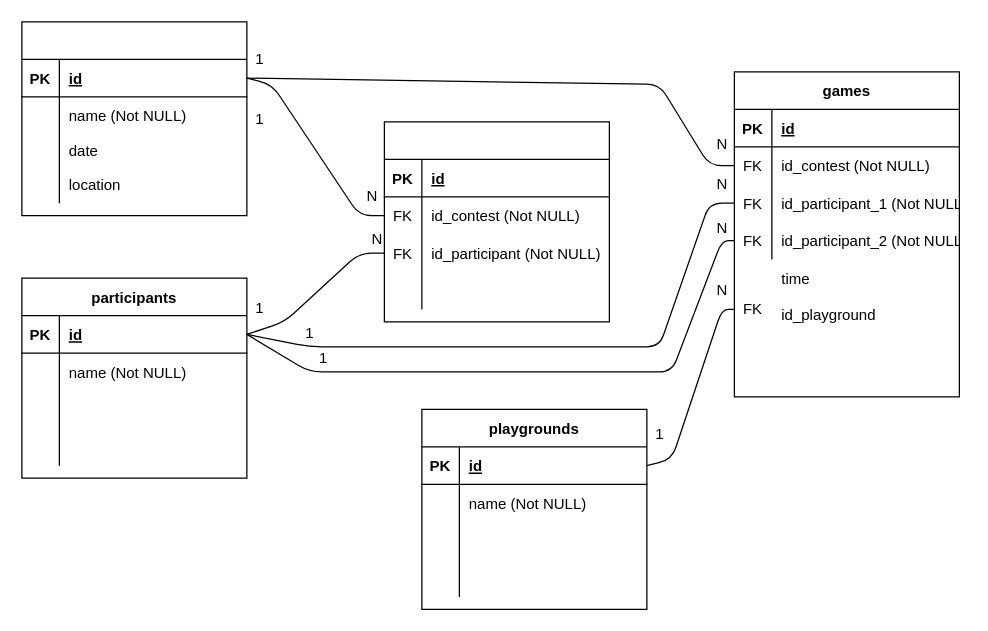
Some shapes in this 988 by 631 pixel diagram are drawn without their labels. Here are the shapes that lost their labels. From the top down, the box of each, then its label:
(21, 21, 247, 216): contests
(383, 121, 609, 322): contests_to_participants
